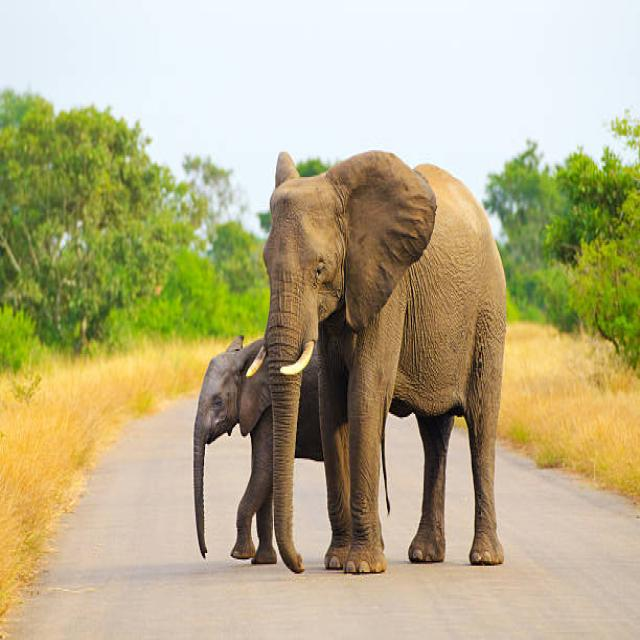Elephant: (258, 121, 520, 624), (156, 292, 274, 596)
